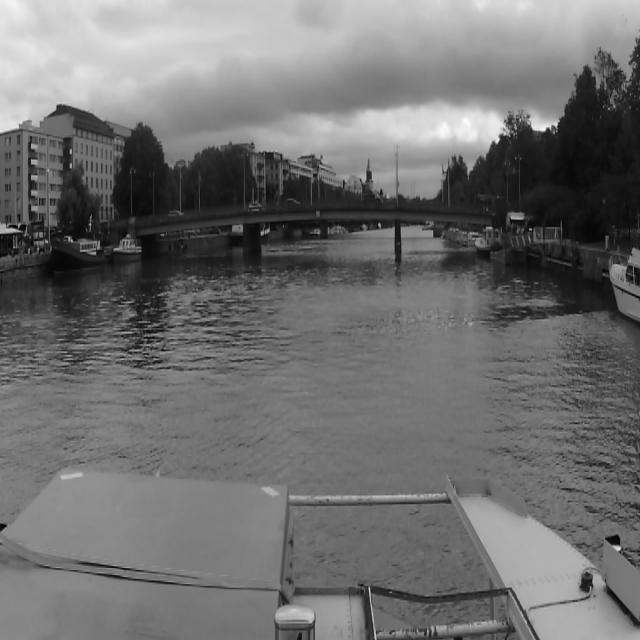ship: (605, 234, 640, 322), (52, 221, 104, 264), (114, 228, 142, 262), (474, 226, 496, 264)
